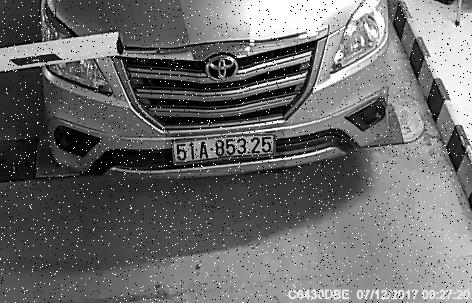License-plate: (167, 122, 288, 174)
